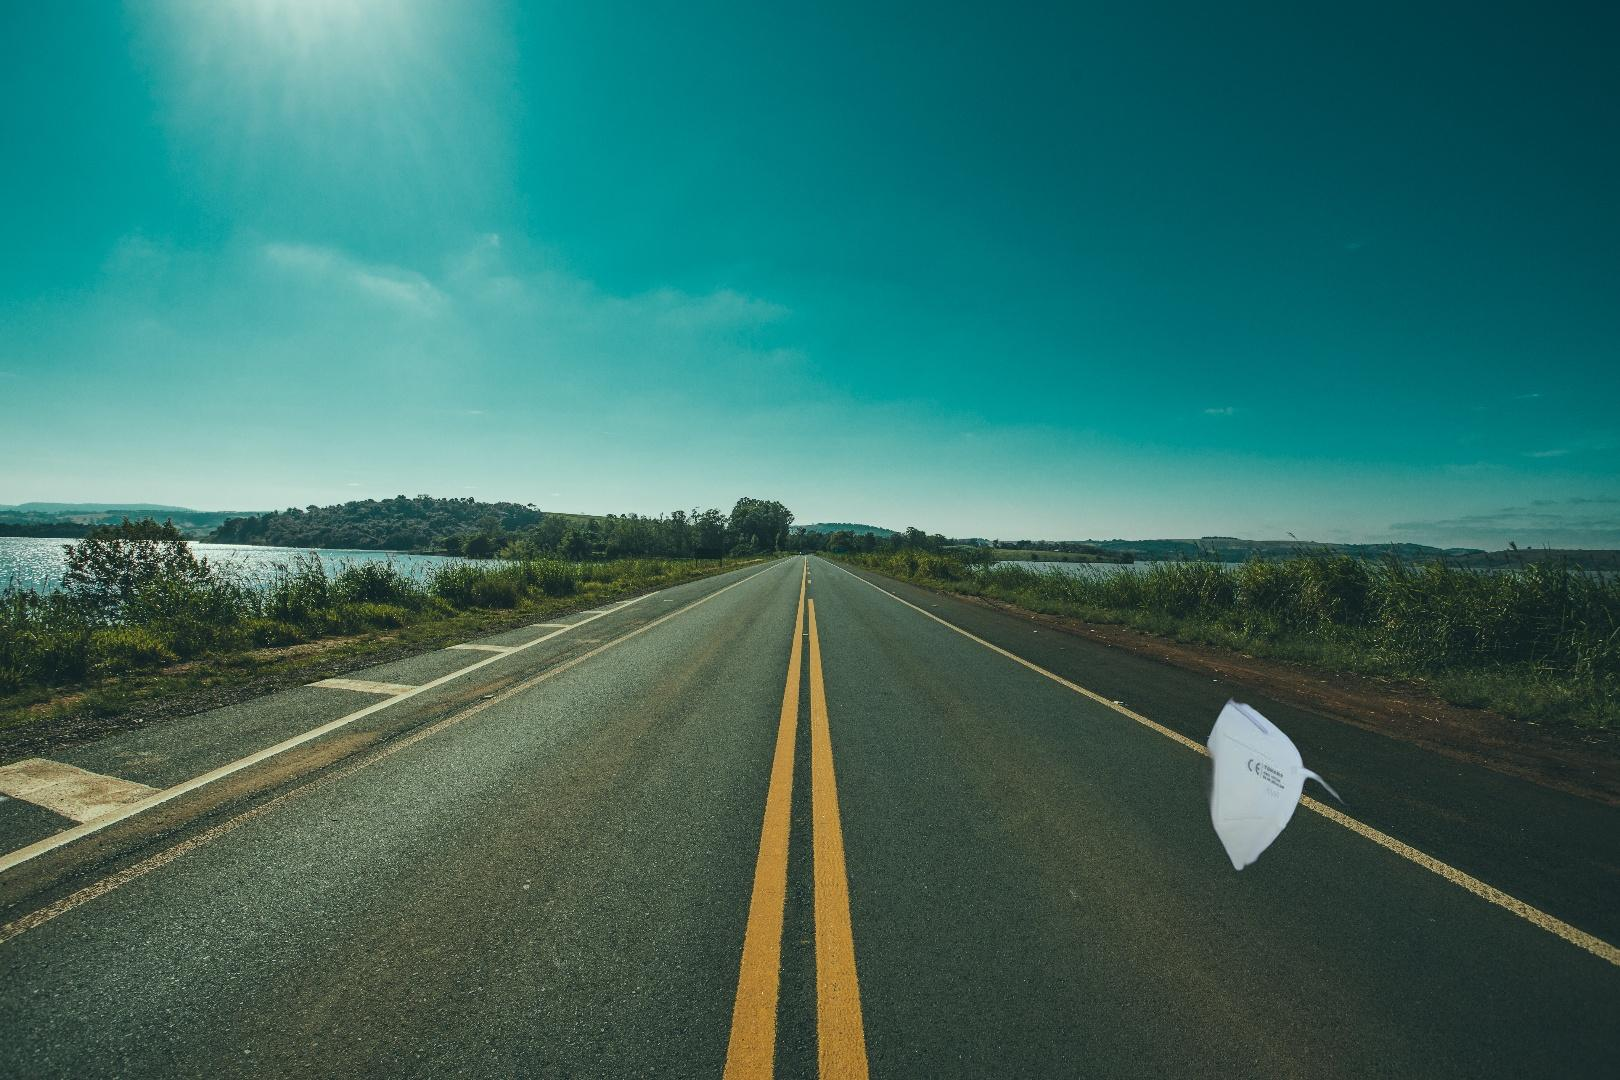trash: (1150, 693, 1366, 877)
